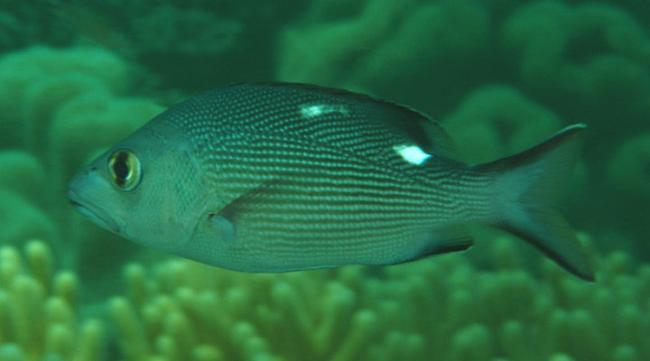fish: (66, 81, 597, 284)
